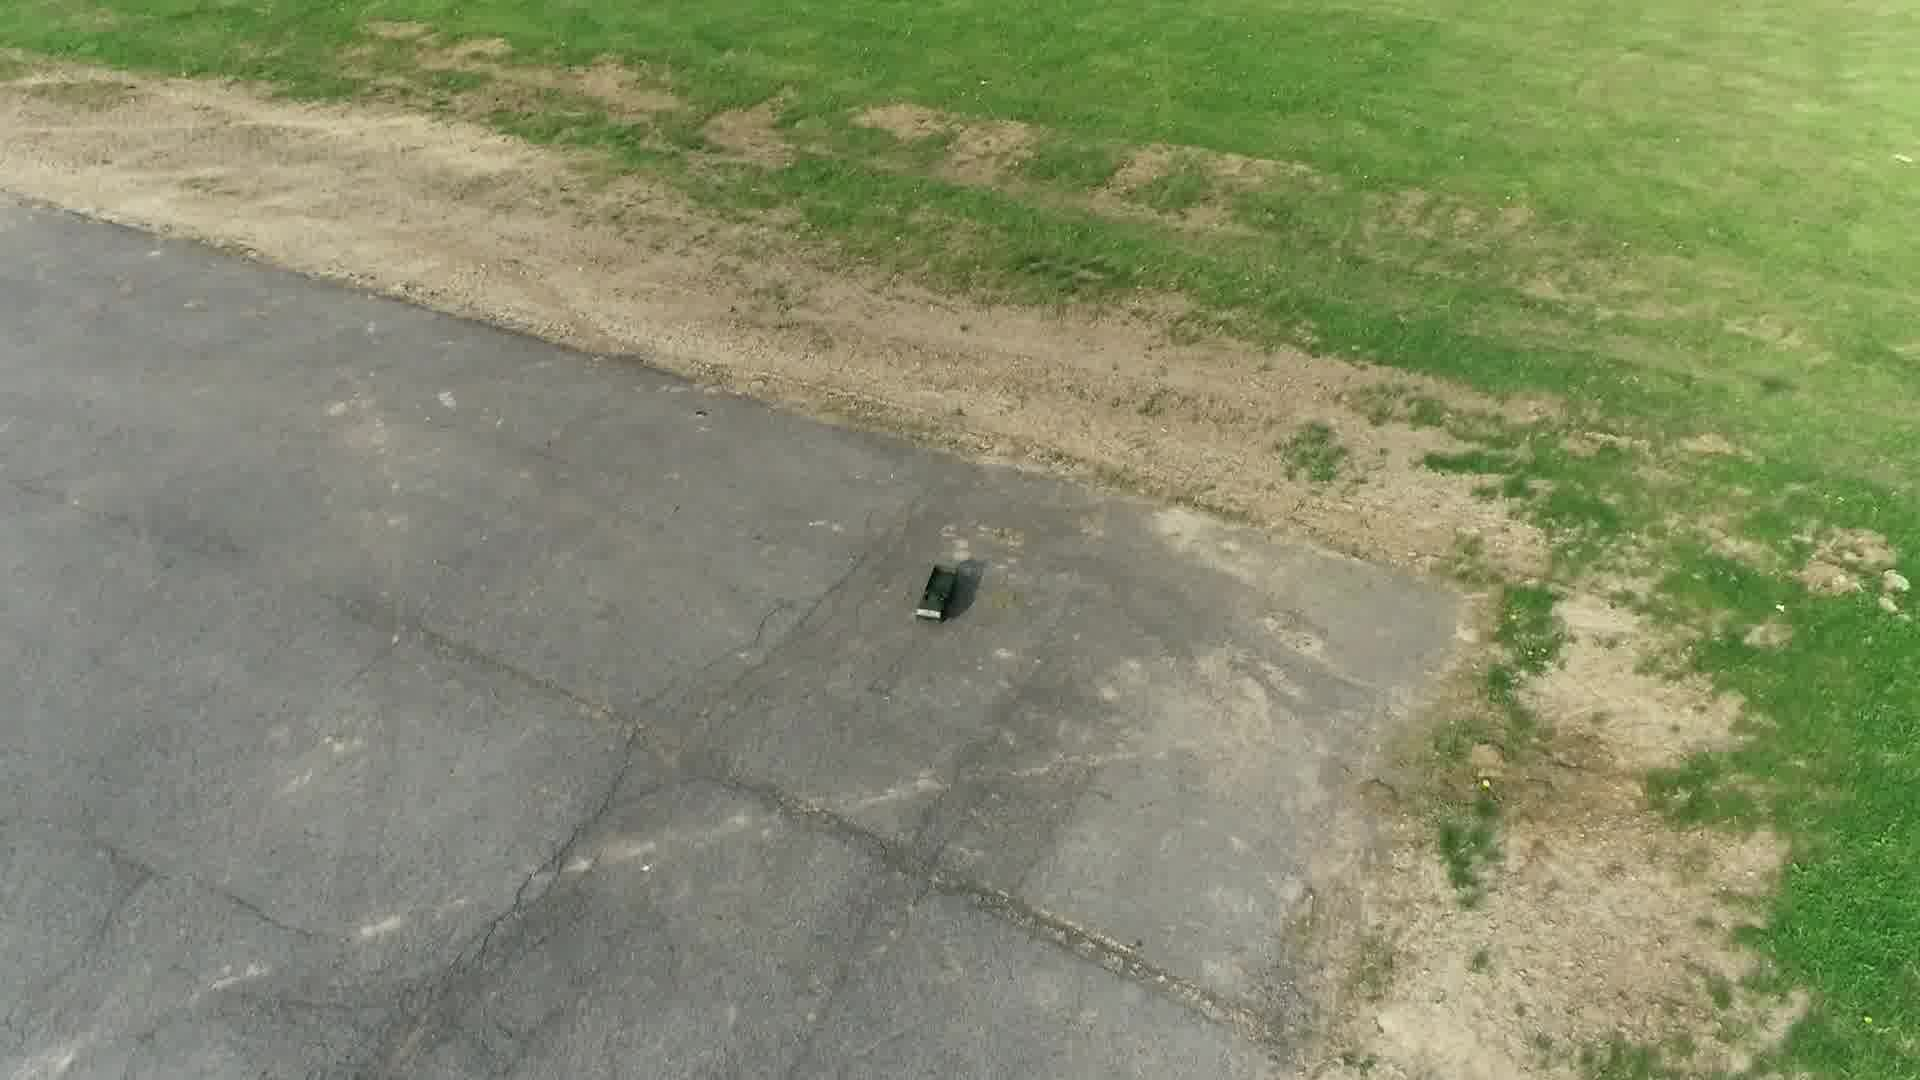transporter9: (910, 562, 965, 626)
